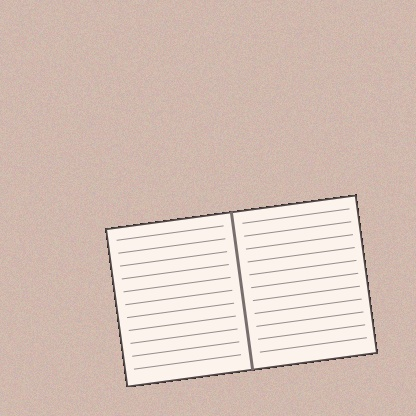book: (105, 194, 378, 387)
